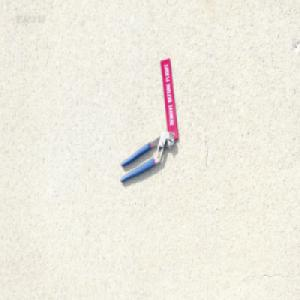Label: (161, 57, 179, 139)
Pliers: (120, 129, 175, 183)
